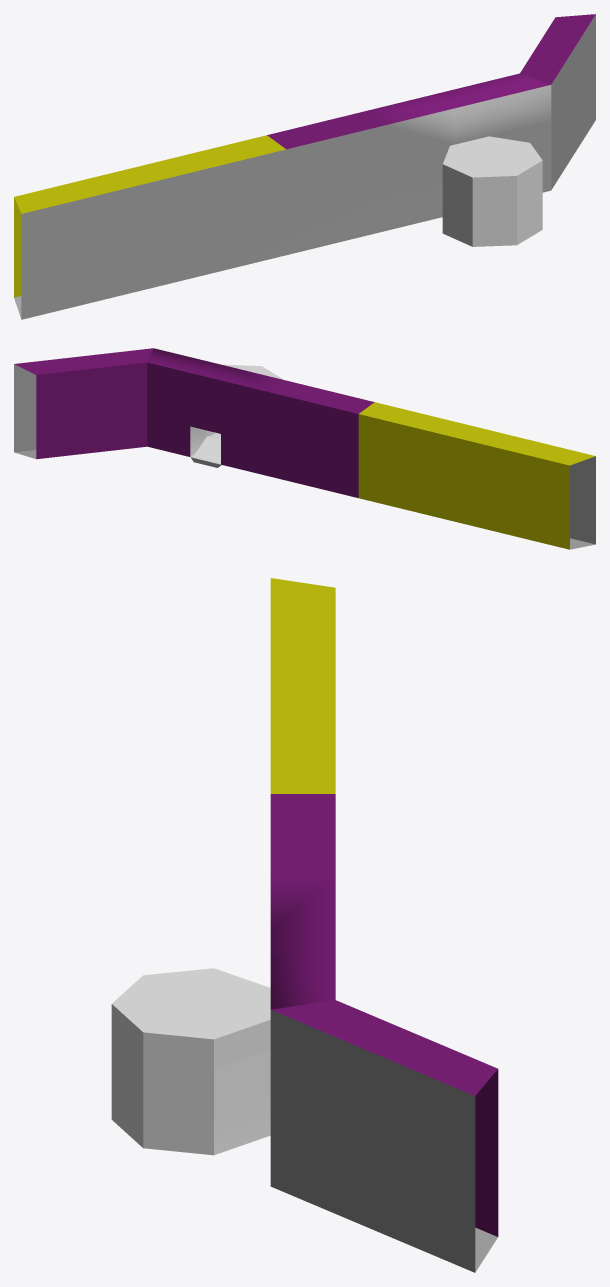
Rendered from NorthWallAndSpawn2.fbx.
The picture shows the model from 3 angles, top to bottom: view 1: azimuth 30°, elevation 25°; view 2: azimuth 150°, elevation 25°; view 3: azimuth 270°, elevation 25°; orthographic projection. The views are drawn at different scales.
Parts seen in each view (by area): view 1: NorthWallAndSpawn; view 2: NorthWallAndSpawn; view 3: NorthWallAndSpawn.
Boxes of the visible parts, x1,y1,x2,y2 form: NorthWallAndSpawn: [14, 14, 595, 319]; NorthWallAndSpawn: [14, 348, 595, 549]; NorthWallAndSpawn: [111, 578, 498, 1272].
Bounding box in the file's own units: 132 × 21 × 41.59.
